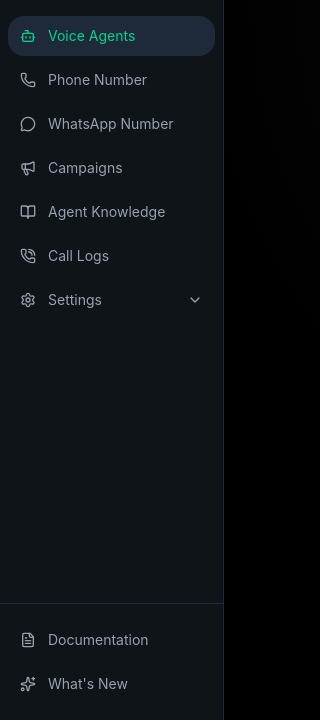
Scenario: DashboardSidebar › Settings Submenu › should expand settings submenu when clicking Settings
The width and height of the screenshot is (320, 720).
Click the button "Settings" at coordinates (112, 300), box [8,280,215,320]
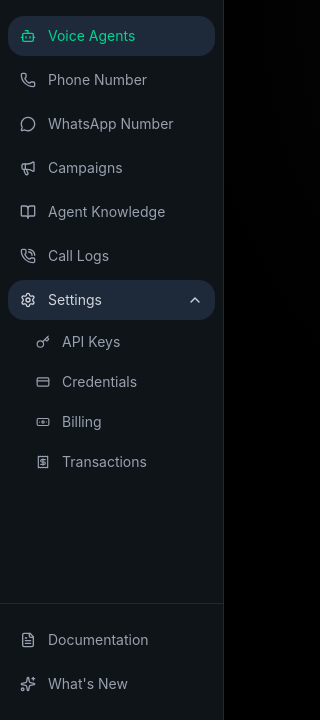
Expected: the text "API Keys" is shown, [62,332,120,352]
Expected: the text "Credentials" is shown, [62,372,137,392]
Expected: the text "Billing" is shown, [62,412,102,432]
